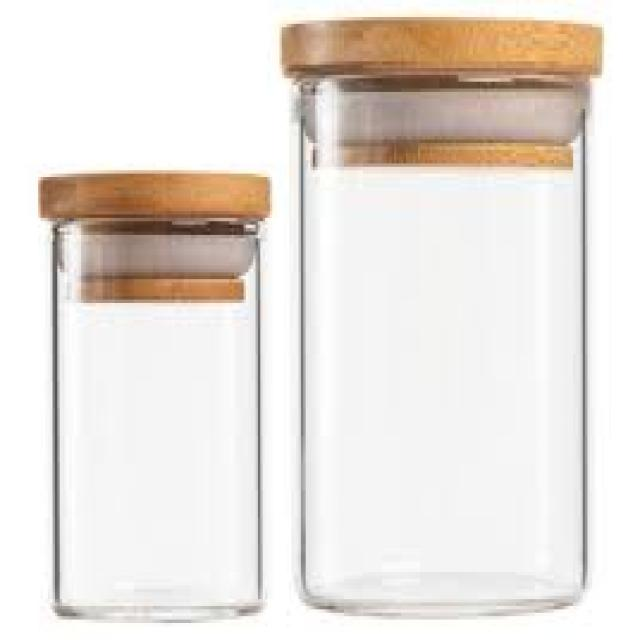glass: (291, 68, 590, 613), (48, 214, 263, 613)
